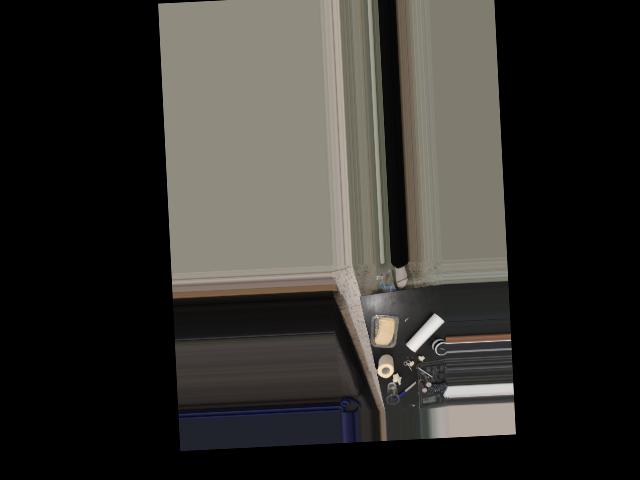cheese: (368, 310, 401, 349)
